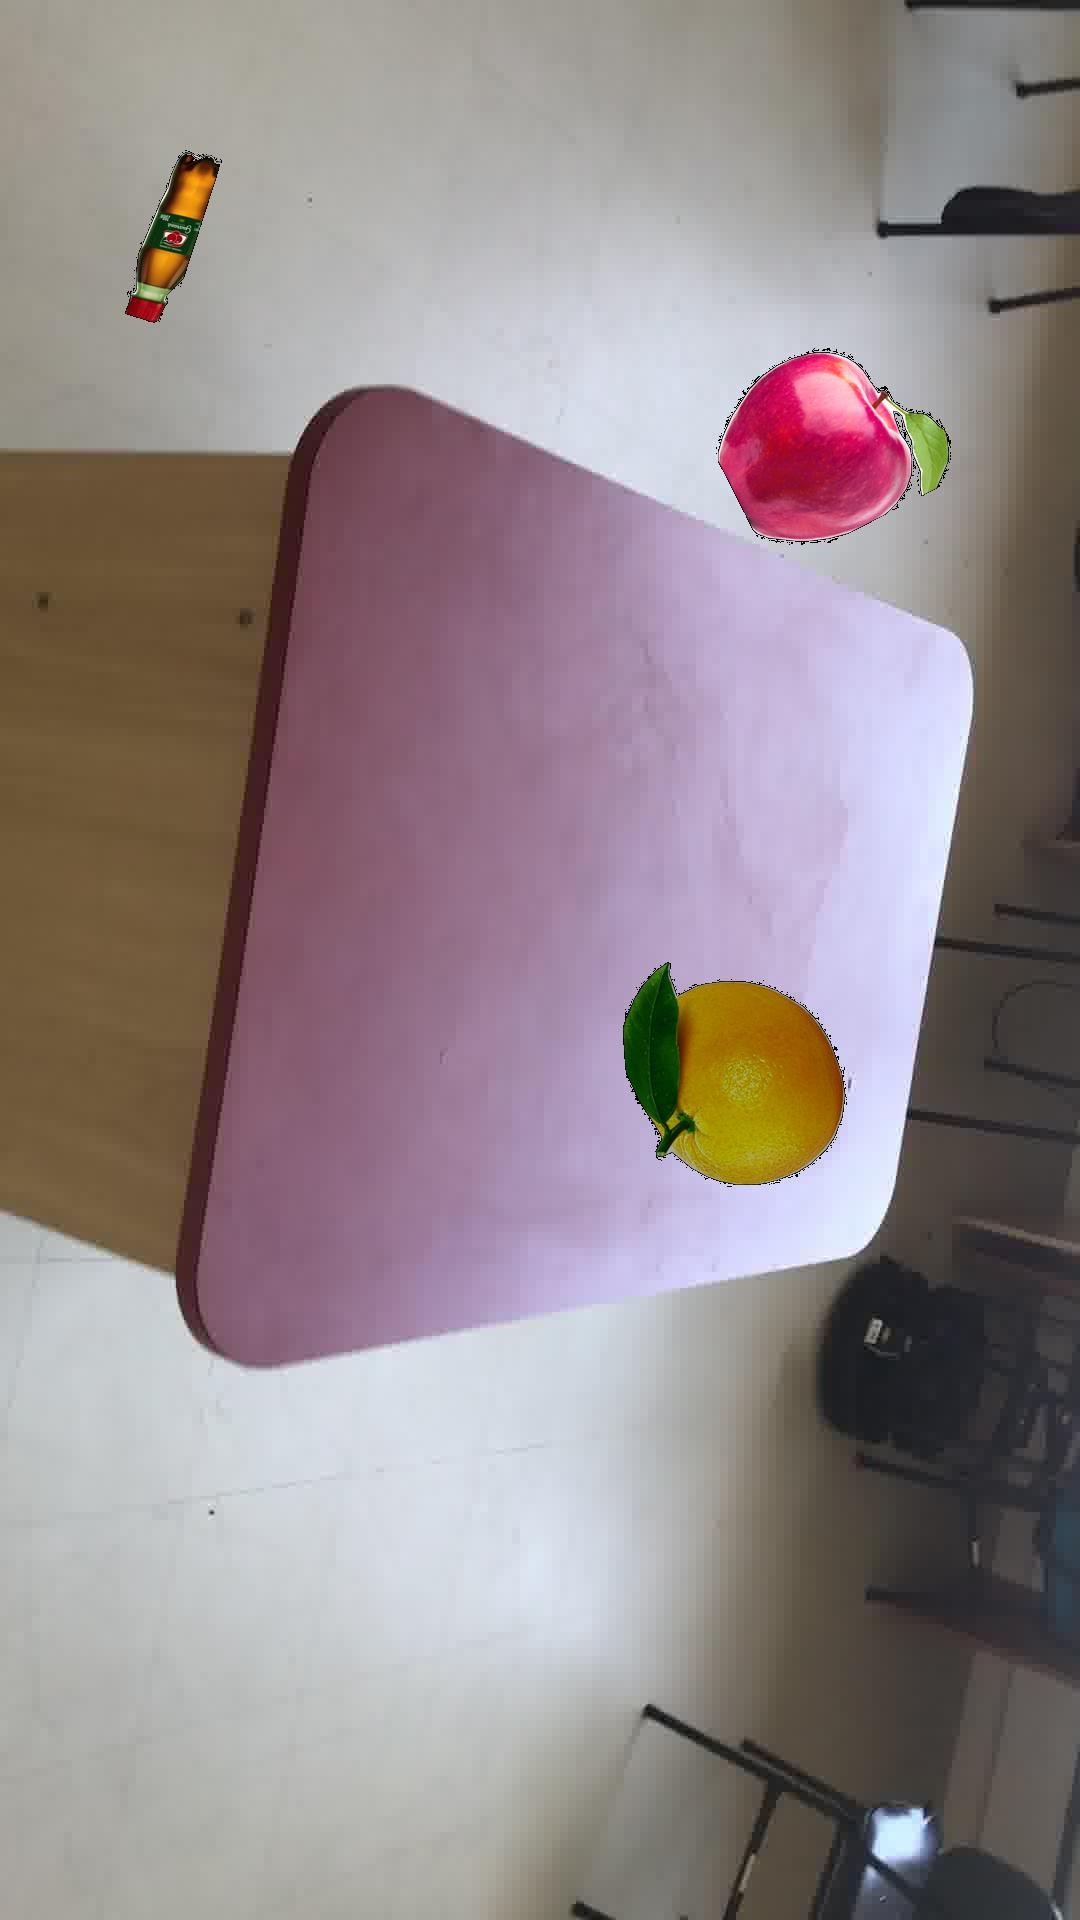apple: (716, 348, 949, 543)
guarana: (124, 149, 220, 322)
orange: (621, 960, 844, 1183)
